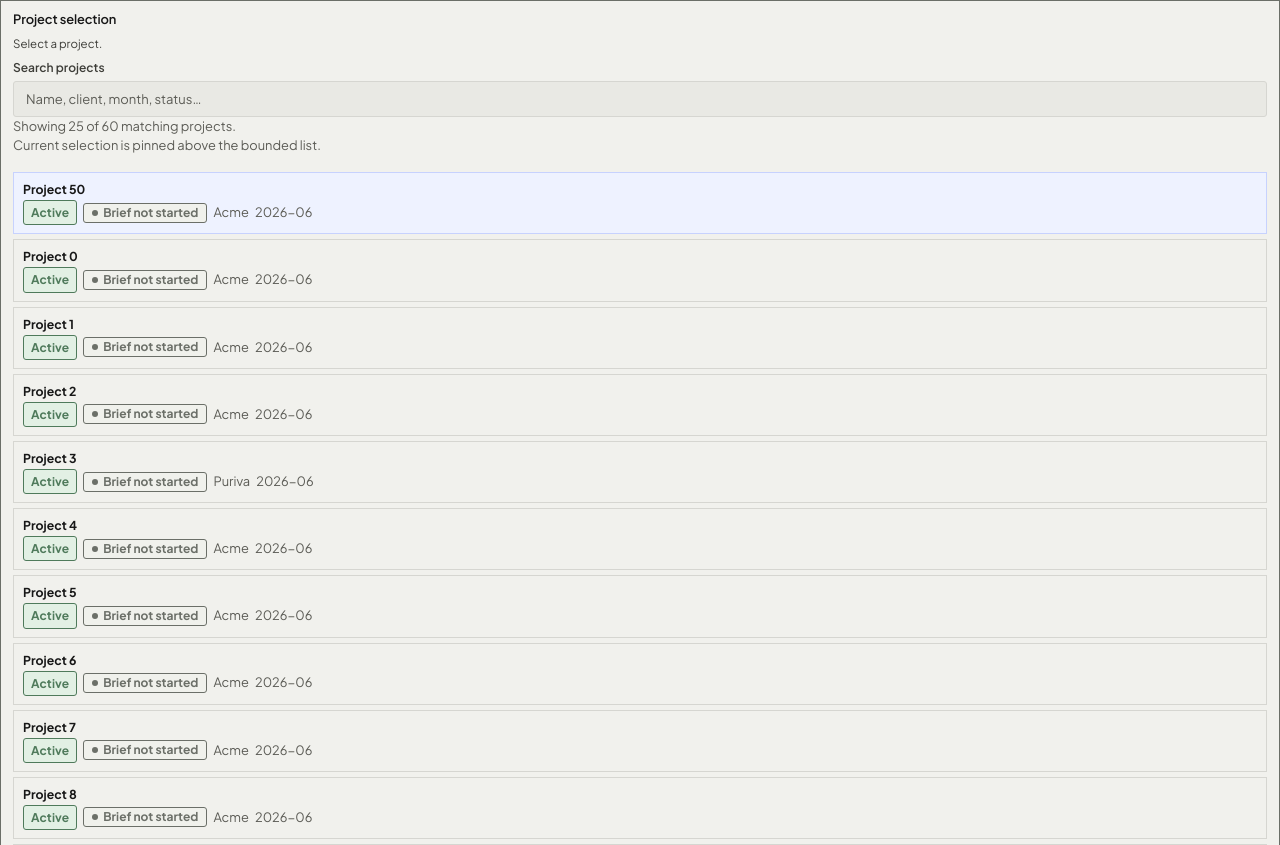
Test case: AiDeliveryProjectPicker › preserves selection when searching and keeps selected item pinned when outside the window
Check: the button "Project 50 Active Brief not started Acme 2026-06" is shown, box [13,172,1267,234]
In the search field labelled "Search projects": x=640, y=99 [13,81,1267,117], type "zebra"
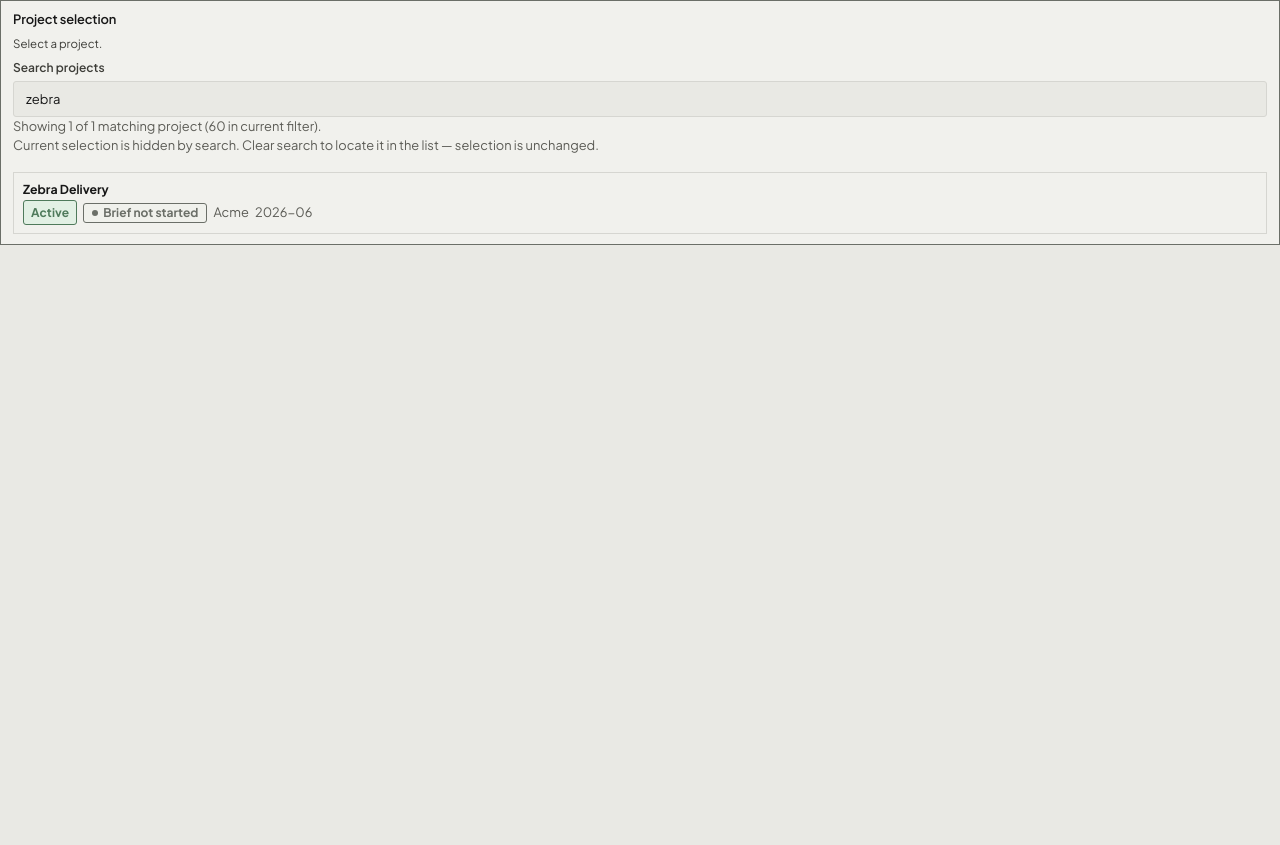
Check: the text "Current selection is hidden by search" is shown, box [13,137,599,153]
